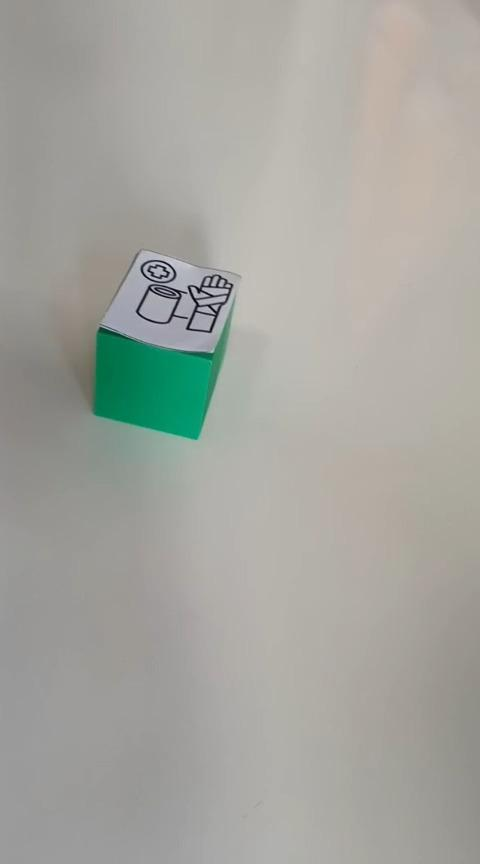Bandages: (91, 247, 242, 441)
